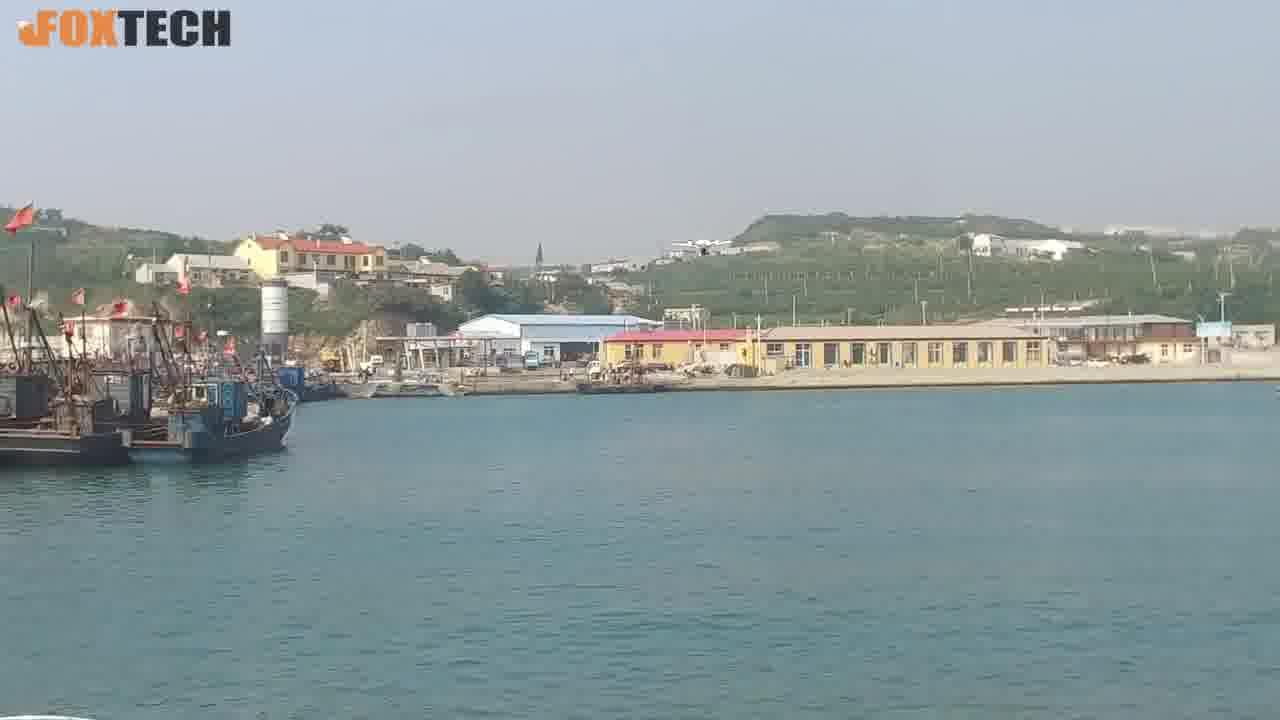drone: (671, 234, 736, 261)
